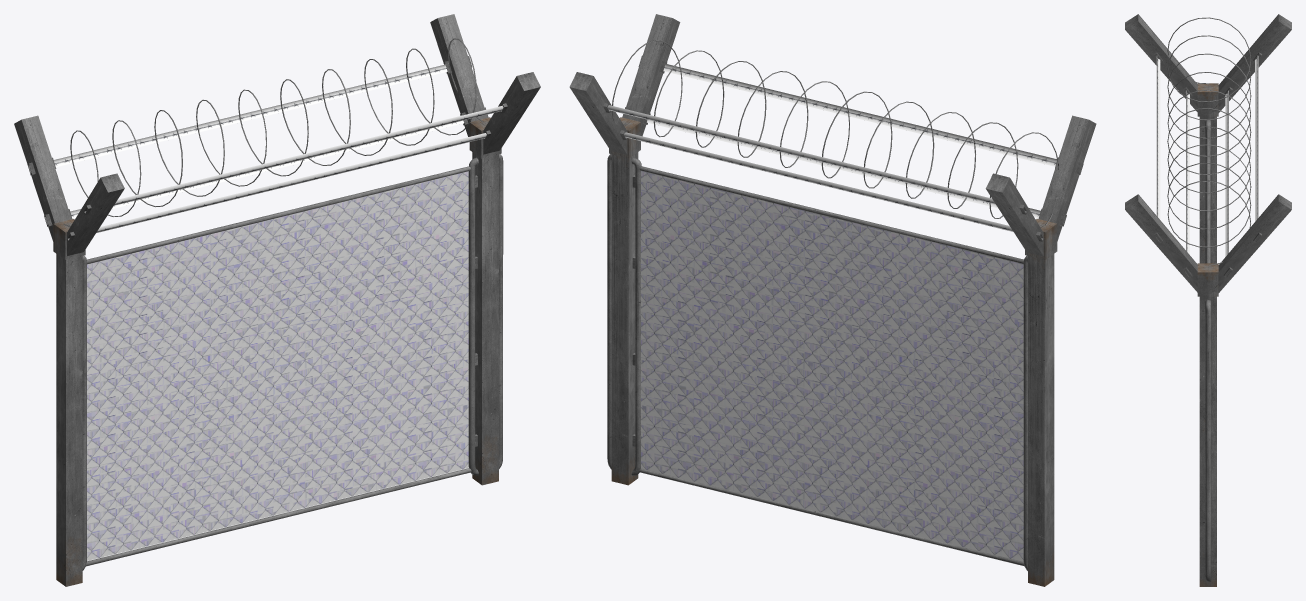
The model's file is Fence_Ends.FBX.
3 views of the same model, side by side, from view 1: azimuth 30°, elevation 25°; view 2: azimuth 150°, elevation 25°; view 3: azimuth 270°, elevation 25° (orthographic). The views are drawn at different scales.
Visible parts, largest first — view 1: Fence_End; view 2: Fence_End; view 3: Fence_End.
Part boxes in pixels (x1,y1,x2,y2): Fence_End: [14, 14, 540, 586]; Fence_End: [569, 14, 1096, 586]; Fence_End: [1125, 14, 1291, 586].
Size of the model in its own units: 133 by 126 by 48.56.
Materials: 2 (2 with a texture image).
